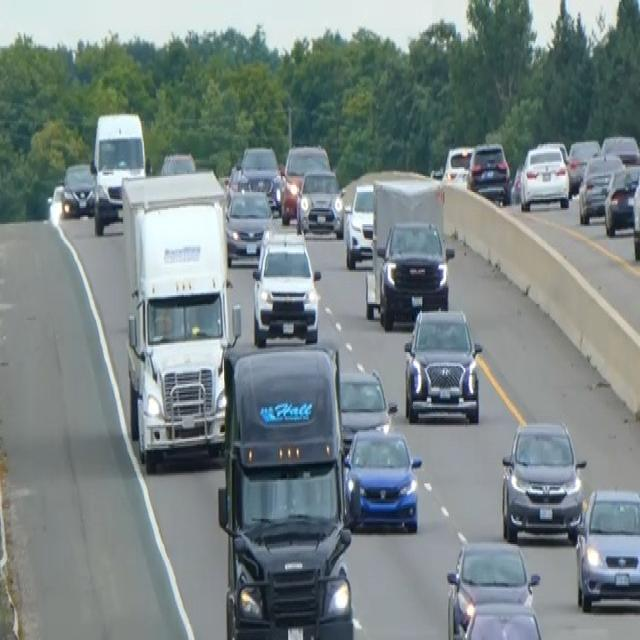car: (499, 416, 586, 544), (445, 537, 543, 638), (402, 304, 483, 425), (343, 425, 422, 531), (376, 217, 452, 327), (573, 486, 639, 612), (251, 227, 321, 345), (337, 364, 397, 450), (280, 142, 330, 222), (453, 599, 546, 638), (224, 187, 273, 261), (296, 166, 345, 238), (519, 142, 569, 212), (577, 151, 624, 224), (236, 142, 282, 210), (467, 140, 511, 204), (343, 182, 375, 268), (603, 164, 639, 236), (61, 160, 95, 217), (566, 137, 600, 192), (600, 132, 639, 167), (442, 142, 473, 183), (159, 148, 196, 174), (46, 180, 64, 226), (631, 162, 639, 261)
lorry: (216, 338, 356, 638), (119, 167, 239, 471)
